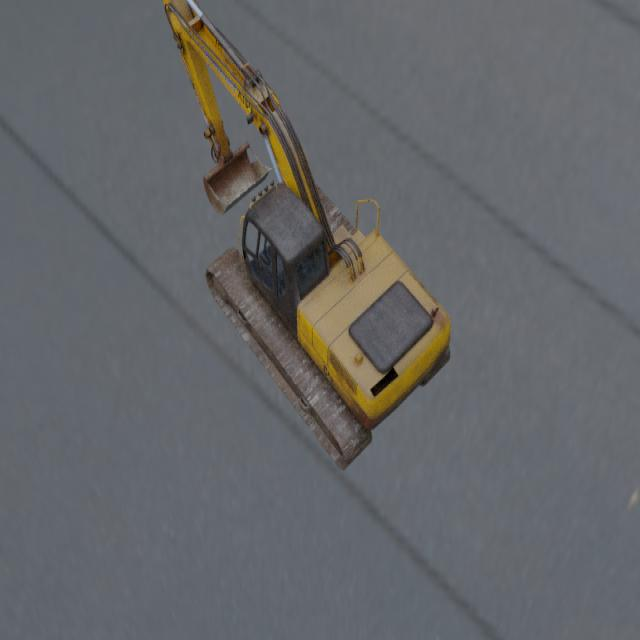excavator: (162, 0, 450, 472)
